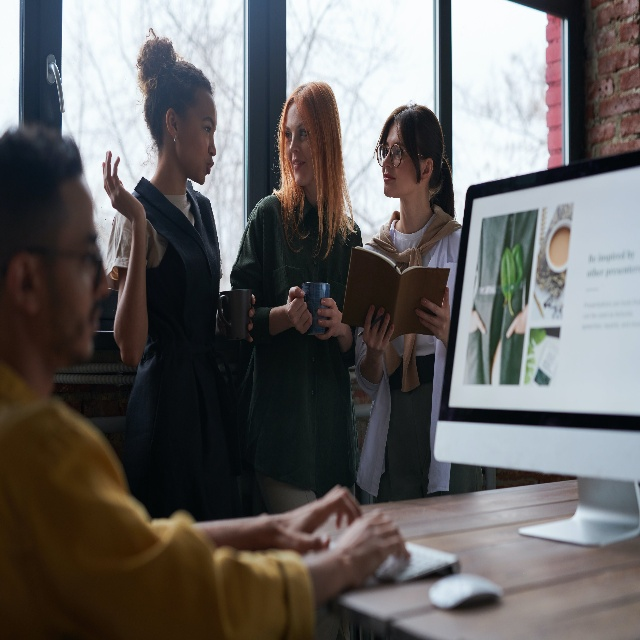Gafas: (25, 245, 102, 293), (375, 143, 424, 168)
Sin_guantes: (334, 506, 410, 589), (271, 484, 362, 553), (103, 150, 147, 228), (414, 285, 450, 341), (363, 304, 395, 362), (313, 296, 345, 341), (286, 285, 313, 334), (247, 294, 256, 343)
